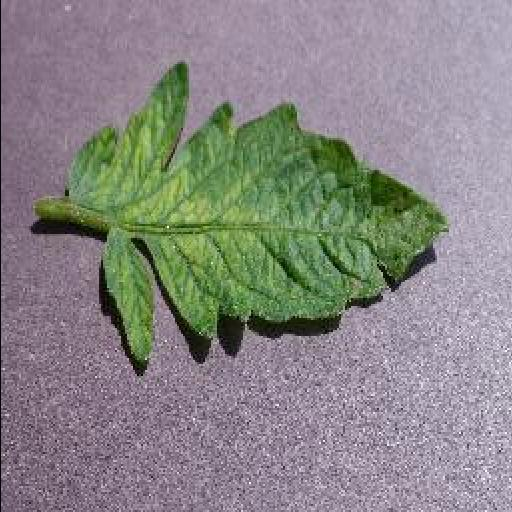disease_tomato: (60, 58, 452, 362)
